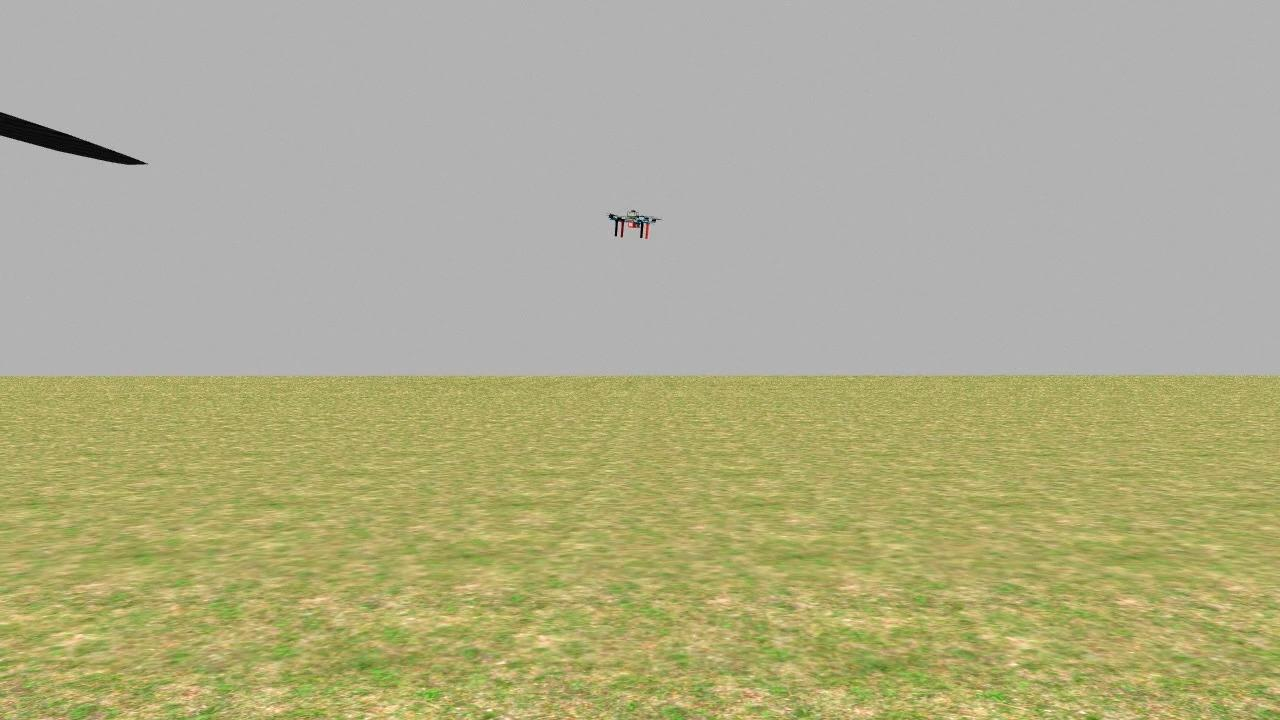UAV: (596, 197, 671, 246)
